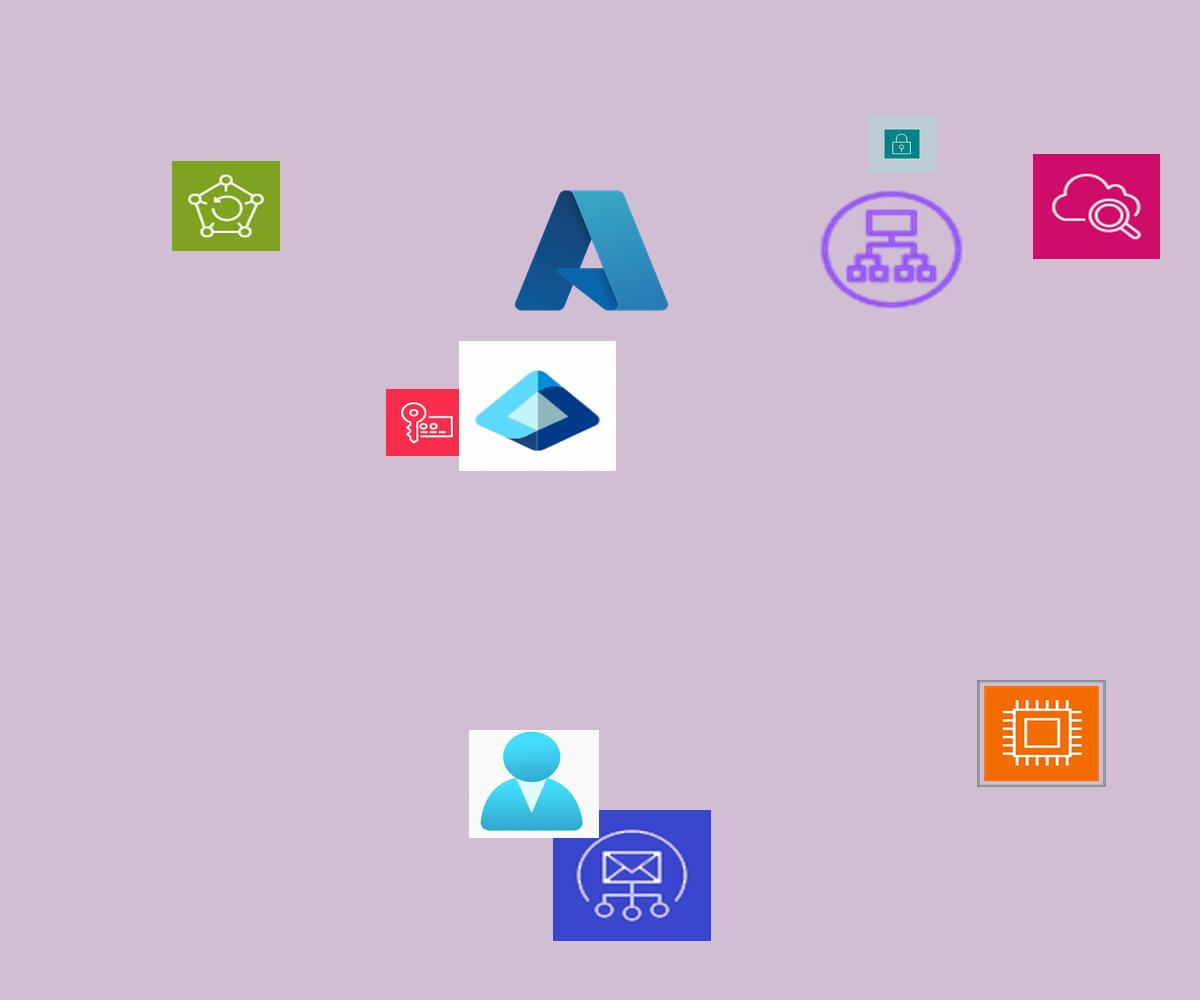AWS-Backup: (172, 161, 280, 251)
AWS-Category_Compute: (977, 680, 1106, 787)
AWS-CloudWatch: (1033, 154, 1160, 259)
AWS-Key-Management-Service: (386, 389, 467, 456)
AWS-Private-subnet: (867, 115, 937, 173)
AWS-Res_Elastic-Load-Balancing_Application-Load-Balancer: (815, 186, 968, 313)
AWS-Simple-Email-Service: (553, 810, 711, 941)
Azure_microsoft_entra: (459, 341, 616, 471)
Azure_services: (508, 181, 675, 320)
Azure_users: (469, 730, 599, 838)
